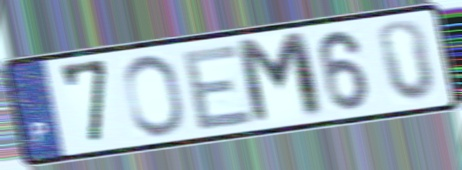0: (377, 18, 439, 107)
6: (316, 26, 371, 113)
7: (56, 57, 111, 149)
E: (180, 40, 257, 134)
M: (232, 28, 330, 130)
O: (121, 51, 189, 139)
